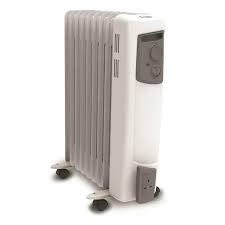Radiator: (50, 9, 166, 211)
